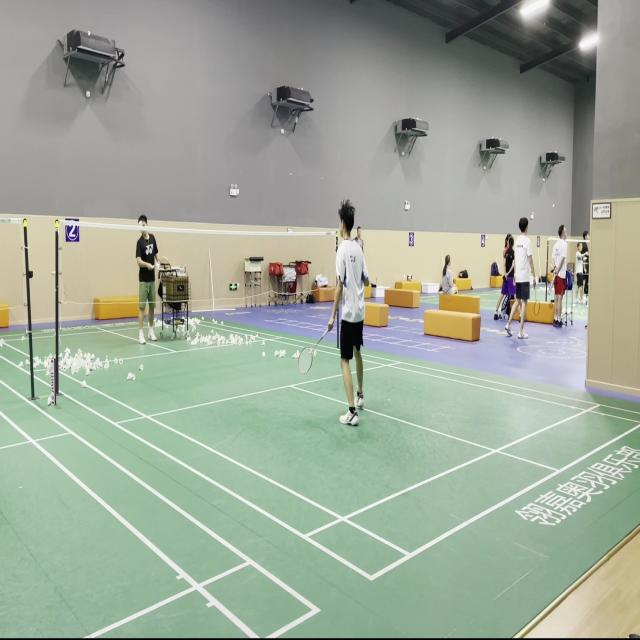shuttlecock: (138, 220, 143, 227)
